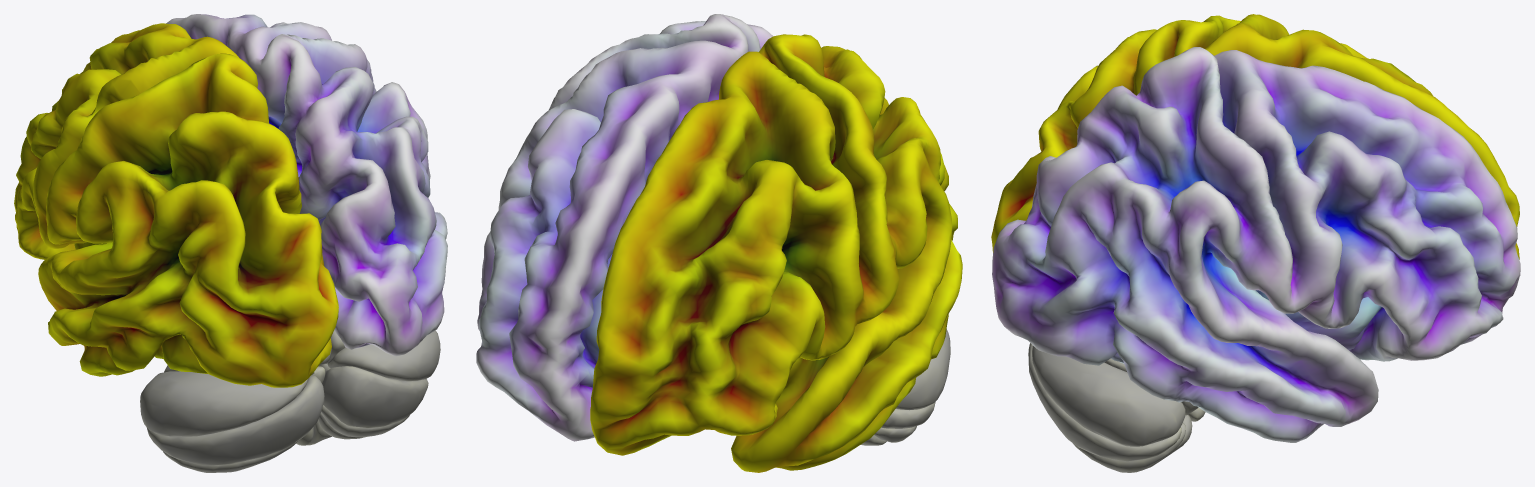
The model's file is noesis-mri-brain.glb.
3 views of the same model, side by side, from view 1: azimuth 30°, elevation 25°; view 2: azimuth 150°, elevation 25°; view 3: azimuth 270°, elevation 25° (orthographic). The views are drawn at different scales.
Parts seen in each view (by area): view 1: Cortex_Left, Cortex_Right, Cerebellum; view 2: Cortex_Left, Cortex_Right, Cerebellum; view 3: Cortex_Right, Cortex_Left, Cerebellum.
Boxes of the visible parts, x1,y1,x2,y2 form: Cortex_Left: (14, 23, 338, 387); Cortex_Right: (166, 14, 447, 356); Cerebellum: (140, 330, 440, 472); Cortex_Left: (590, 34, 962, 472); Cortex_Right: (476, 14, 773, 441); Cerebellum: (860, 329, 950, 445); Cortex_Right: (992, 47, 1520, 442); Cortex_Left: (991, 14, 1519, 259); Cerebellum: (1028, 343, 1205, 472).
Bounding box in the file's own units: 1.58 × 1.65 × 1.98.
